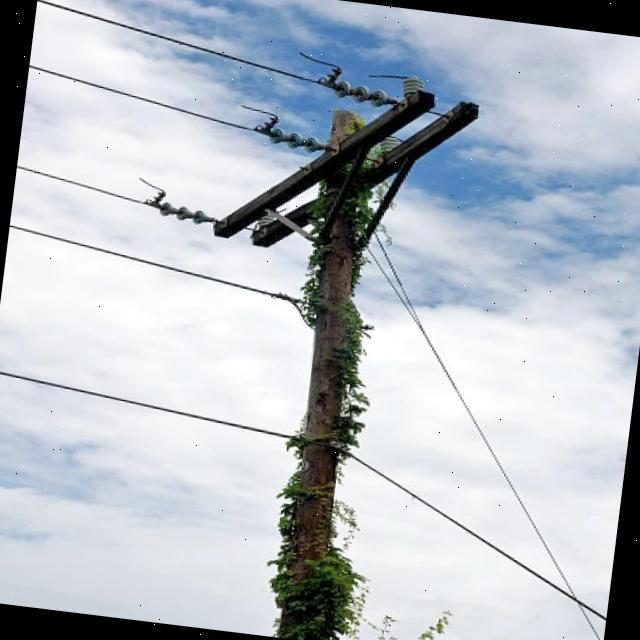critical vegetation: (143, 45, 500, 640)
